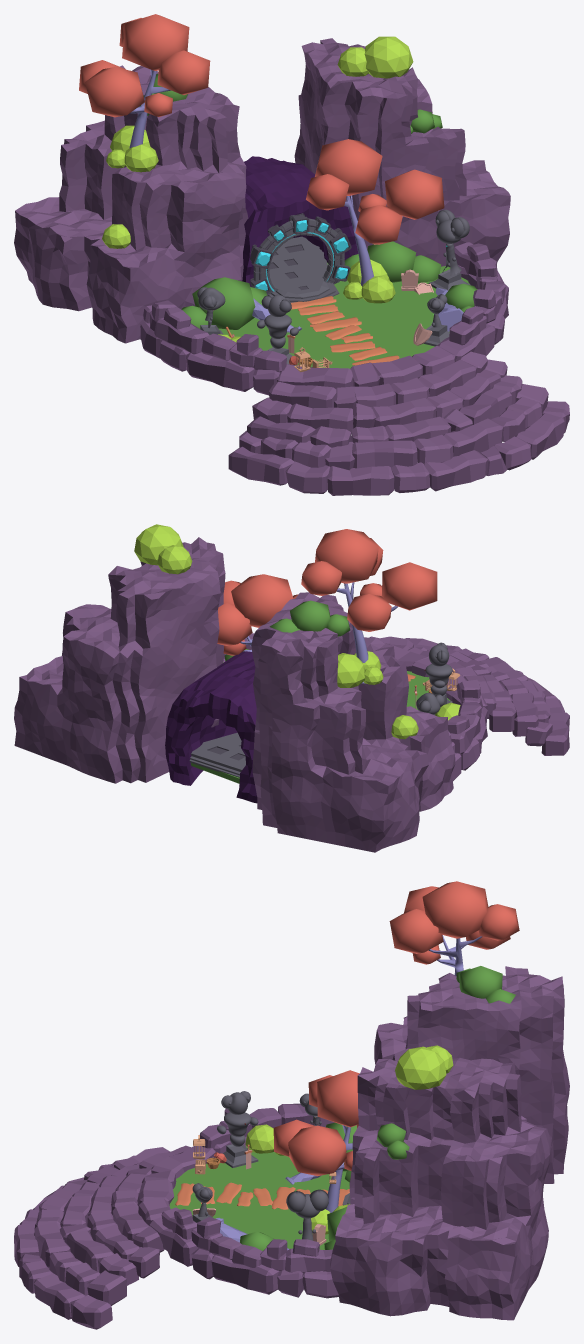
Rendered from BETA_startarea.fbx.
The picture shows the model from 3 angles, top to bottom: view 1: azimuth 30°, elevation 25°; view 2: azimuth 150°, elevation 25°; view 3: azimuth 270°, elevation 25°; orthographic projection. The views are drawn at different scales.
Parts seen in each view (by area): view 1: env_mountain01, env_startarea_stone_stairs, env_mountain02, env_startarea_wall_stones, env_tree01, env_tree02, env_startarea_floor, env_cave_entrance, Gate_Entry, env_startarea_plank_footpath, env_bush10, env_bush04 (+10 smaller); view 2: env_mountain01, env_mountain02, env_tree01, env_cave_entrance, env_startarea_stone_stairs, env_tree02, env_startarea_wall_stones, env_bush04, env_bush07, Gate_Steps.Back, env_bush03, Statue2_Purple.001 (+3 smaller); view 3: env_mountain02, env_startarea_stone_stairs, env_mountain01, env_startarea_wall_stones, env_tree01, env_startarea_floor, env_tree02, env_bush04, Statue2_Purple.001, env_startarea_plank_footpath, env_bush07, Statue3_Teal.001 (+2 smaller).
Boxes of the visible parts, x1,y1,x2,y2 form: env_mountain01: (14, 65, 248, 343); env_startarea_stone_stairs: (228, 351, 569, 495); env_mountain02: (294, 38, 510, 266); env_startarea_wall_stones: (140, 242, 508, 395); env_tree01: (79, 14, 210, 148); env_tree02: (306, 139, 444, 286); env_startarea_floor: (219, 262, 477, 368); env_cave_entrance: (242, 156, 358, 287); Gate_Entry: (250, 213, 351, 295); env_startarea_plank_footpath: (291, 296, 399, 365); env_bush10: (181, 277, 266, 329); env_bush04: (337, 36, 413, 78); env_mountain01: (251, 592, 455, 852); env_mountain02: (14, 537, 225, 783); env_tree01: (301, 529, 437, 683); env_cave_entrance: (165, 651, 257, 803); env_startarea_stone_stairs: (369, 636, 569, 755); env_tree02: (217, 574, 298, 655); env_startarea_wall_stones: (223, 633, 487, 780); env_bush04: (134, 524, 192, 574); env_bush07: (269, 600, 350, 636); Gate_Steps.Back: (189, 732, 245, 777); env_bush03: (337, 651, 383, 687); Statue2_Purple.001: (424, 642, 452, 715); env_mountain02: (330, 1057, 551, 1320); env_startarea_stone_stairs: (14, 1145, 190, 1329); env_mountain01: (374, 966, 569, 1183); env_startarea_wall_stones: (137, 1103, 338, 1298); env_tree01: (389, 881, 519, 975); env_startarea_floor: (169, 1147, 349, 1249); env_tree02: (273, 1070, 359, 1212); env_bush04: (395, 1045, 453, 1089); Statue2_Purple.001: (217, 1091, 258, 1167); env_startarea_plank_footpath: (175, 1182, 349, 1209); env_bush07: (456, 966, 515, 1003); Statue3_Teal.001: (286, 1189, 328, 1240).
Size of the model in its own units: 5160 by 4450 by 3448.
